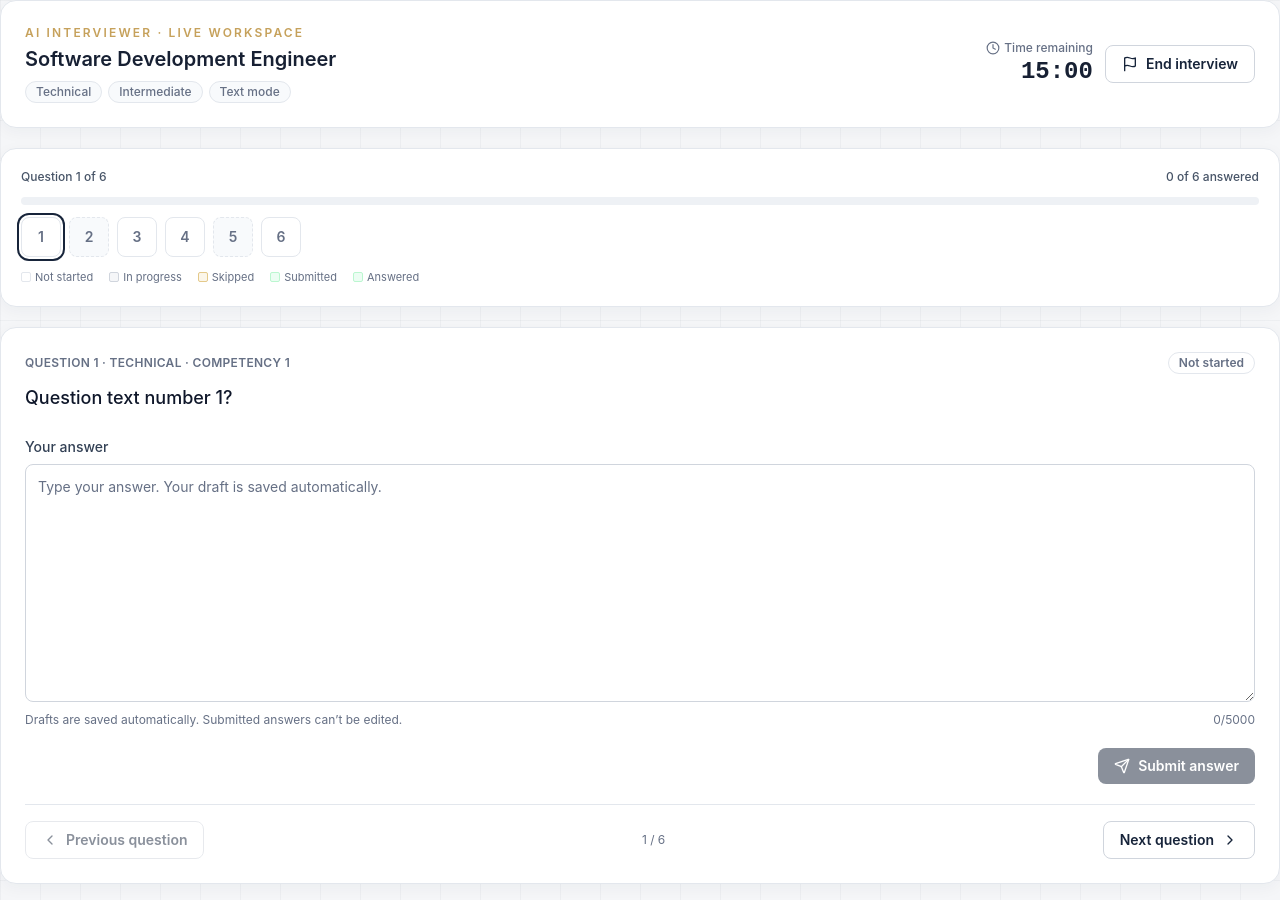
Scenario: jump directly to a question, and the last question offers finish instead of next
This screenshot has width=1280, height=900.
expect the text "Question text number 1?" is shown: met, box [25,386,233,408]
What coordinates should you click on to do the following:
click the button named "question 6"
I would click on:
 (281, 237)
Its box is [261,217,301,257].
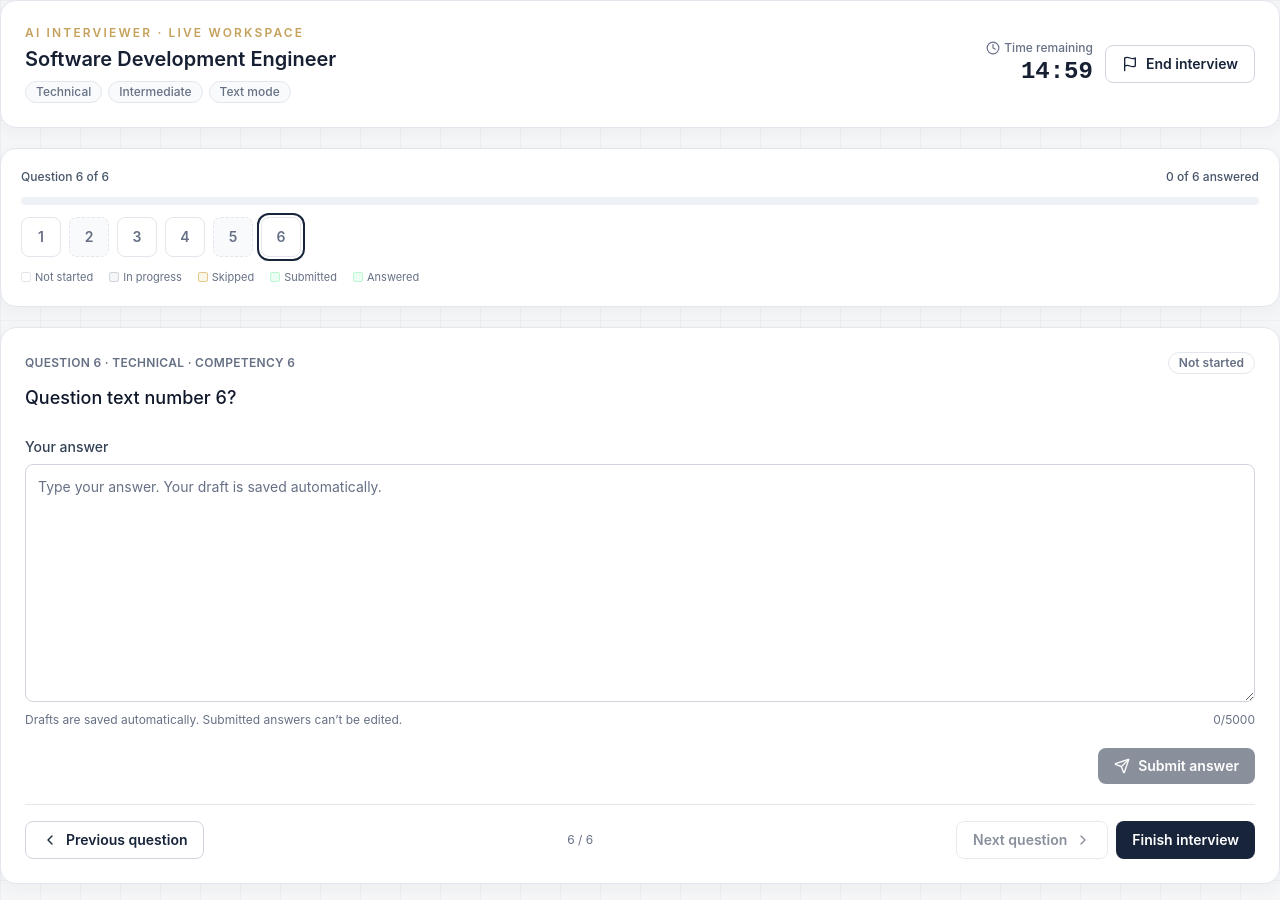
expect the text "Question 6 of 6" is shown: met, box [21,169,109,185]
expect the button "Next question" is disabled: met, box [956,820,1108,858]
expect the button "Finish interview" is shown: met, box [1116,820,1255,858]
